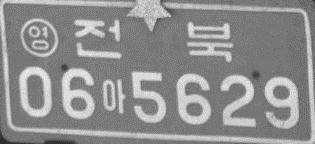0: (18, 65, 53, 118)
2: (219, 73, 257, 128)
5: (131, 70, 167, 125)
6: (175, 72, 212, 125), (61, 66, 95, 120)
9: (263, 75, 300, 129)
아: (101, 77, 126, 116)
영: (20, 16, 58, 57)
전북_D: (72, 17, 234, 63)
